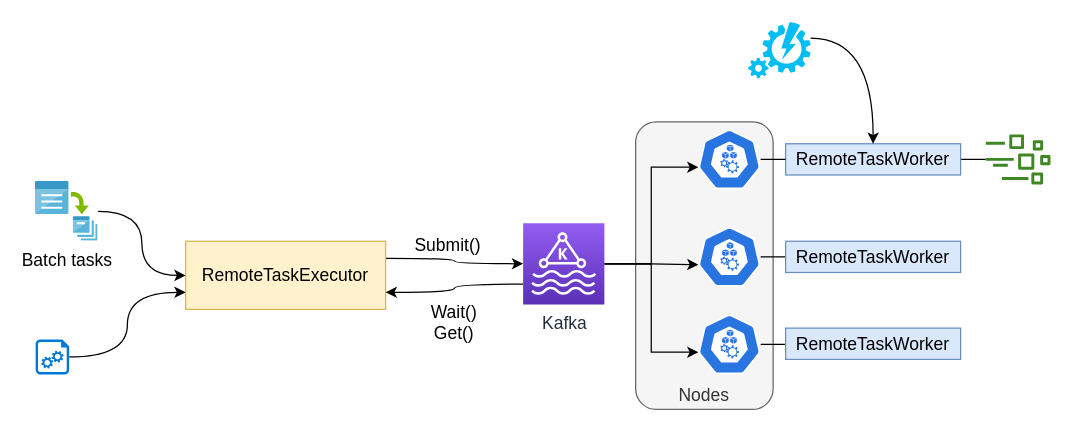
This 1071x431 diagram has some shape labels left out. Here are the shapes that lost their labels. From the top down, the centre of each, then its label:
point (779, 49): Thread Tuner
point (1017, 159): Threads
point (52, 356): Task
